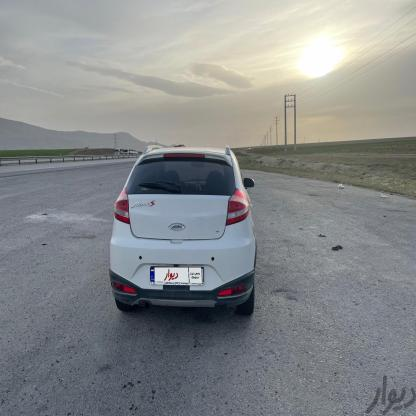Car: (107, 142, 264, 320)
